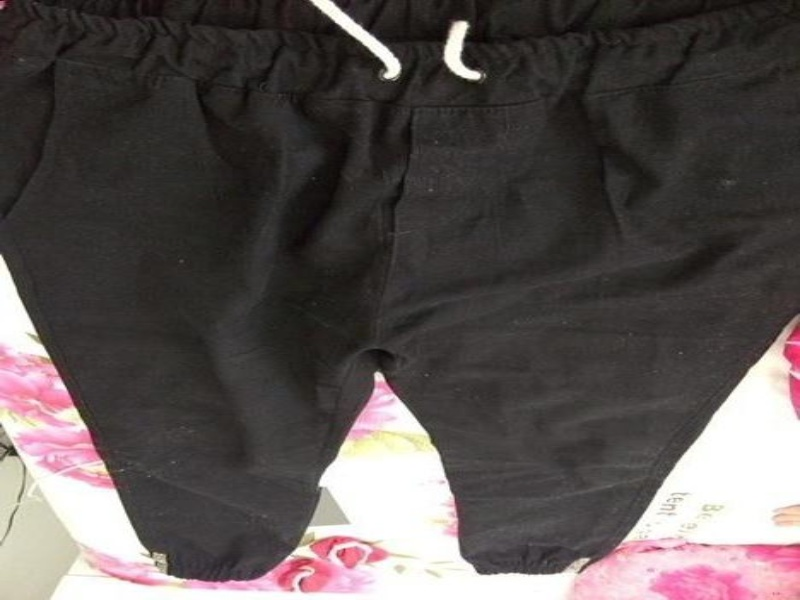trousers: (0, 0, 798, 587)
